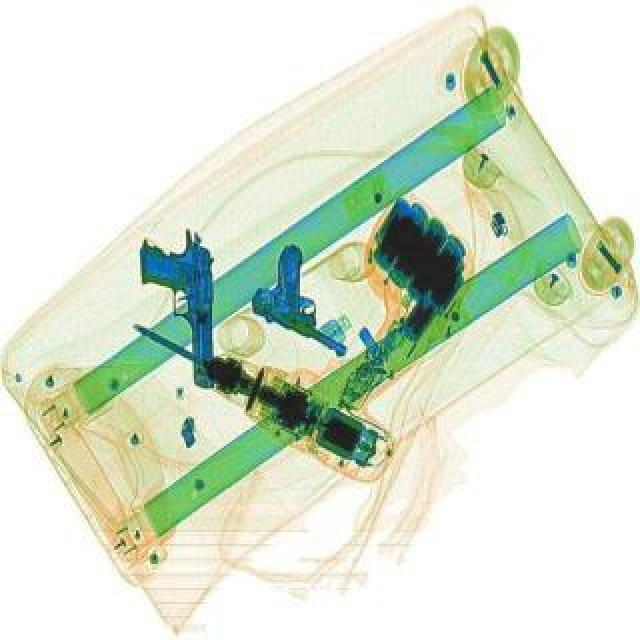gun: (242, 236, 386, 356), (138, 226, 216, 386)
